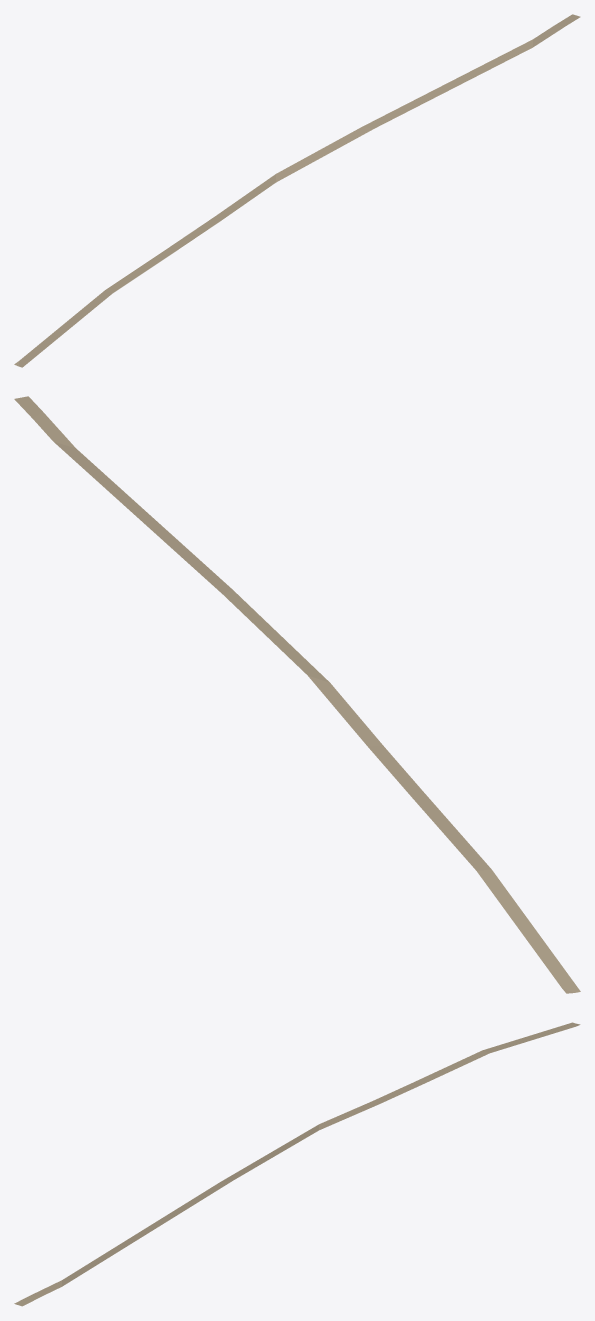
File: farm_-6_14_track.glb
3 views of the same model, one above another, from view 1: azimuth 90°, elevation 25°; view 2: azimuth 150°, elevation 25°; view 3: azimuth 270°, elevation 25° (orthographic). The views are drawn at different scales.
Parts seen in each view (by area): view 1: geometry_0; view 2: geometry_0; view 3: geometry_0.
Boxes of the visible parts, x1,y1,x2,y2 form: geometry_0: [14, 14, 580, 367]; geometry_0: [14, 396, 580, 993]; geometry_0: [14, 1022, 580, 1306].
Size of the model in its own units: 235 by 14.73 by 176.
